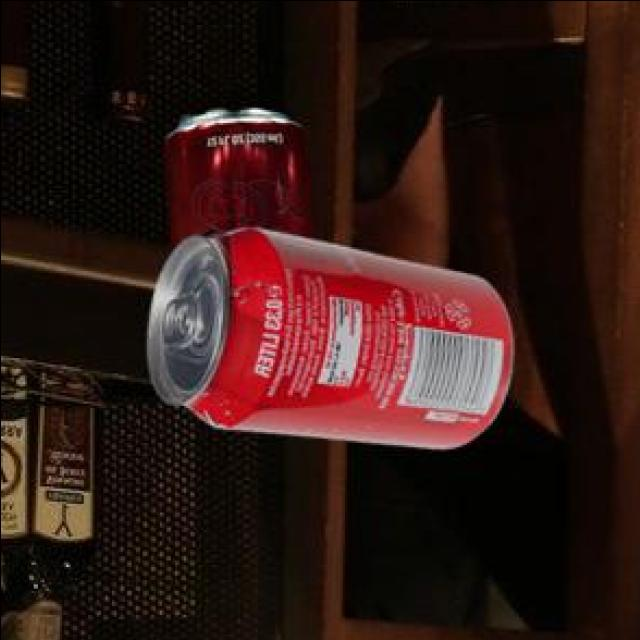logam: (145, 230, 508, 452), (160, 110, 310, 256)
